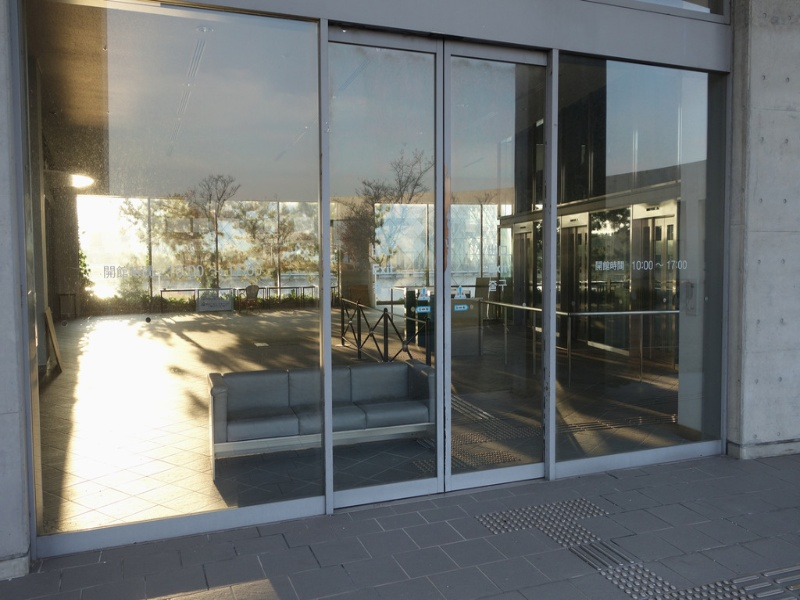couch: (194, 362, 453, 455)
